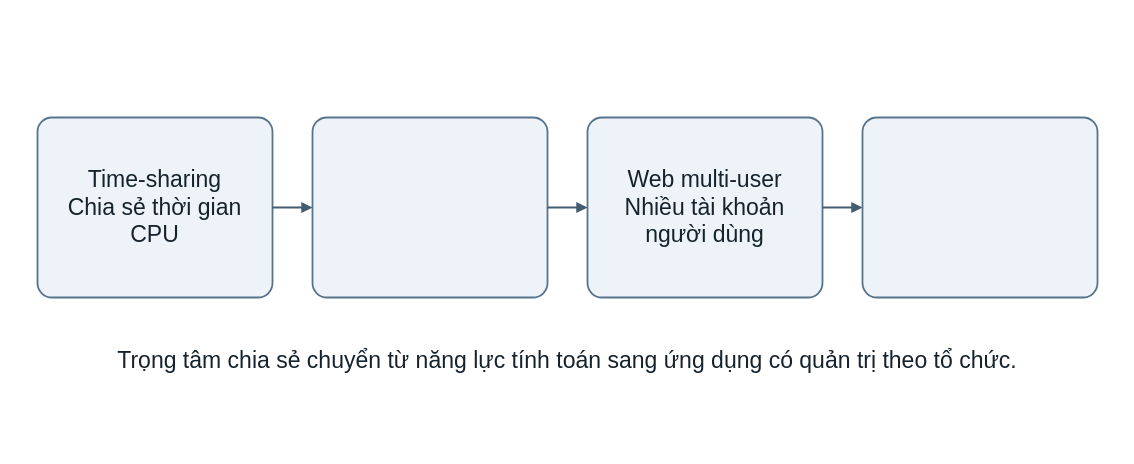
Image size: 1134x464. Some labels were removed from this diagram. The centre of each missing label's shape, as x and y in pixels:
"ASP Vận hành ứng dụng từ xa" goes at [429,207].
"SaaS multi-tenant Ngữ cảnh và cấu hình tổ chức" goes at [979,207].
